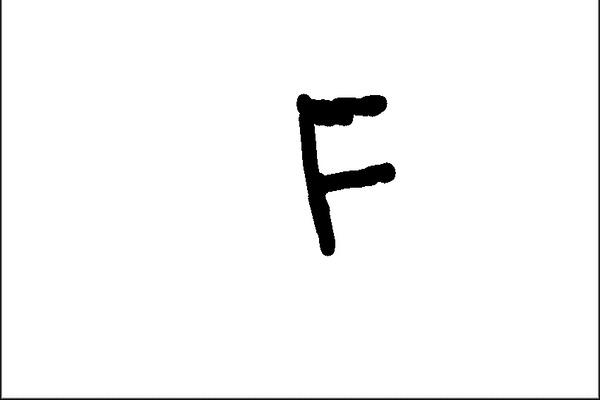F: (291, 86, 395, 259)
